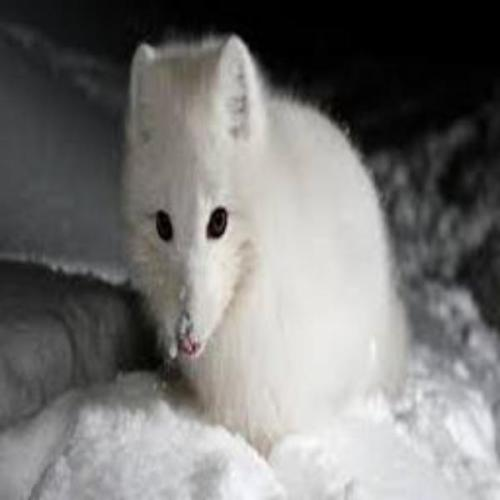arctic_fox-endangered: (126, 34, 400, 453)
